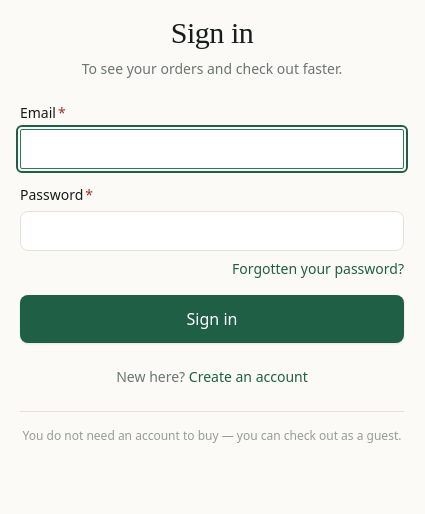
Test: signing in › shows the server’s refusal rather than guessing which field was wrong
Expected: the heading "Sign in" is shown, [171,16,253,49]
In the field labelled "Email*": coordinates (212, 149) [20,129,404,169], type "shopper@example.test"
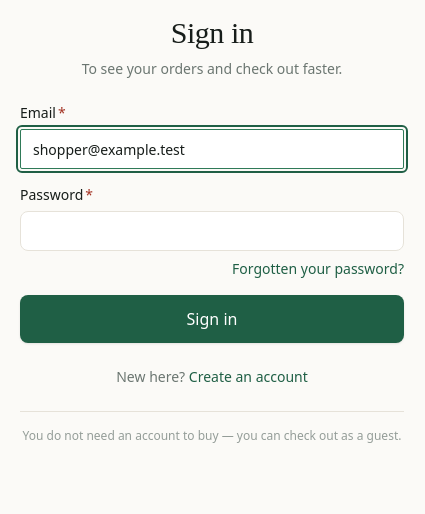
In the password field labelled "Password*": coordinates (212, 231) [20,211,404,251], type "wrong"
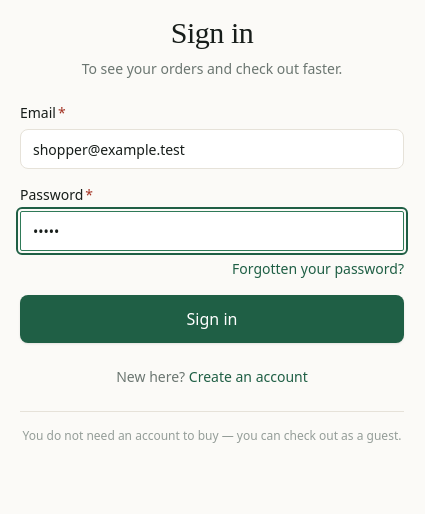
Click the button "Sign in": coordinates (212, 319) [20,295,404,343]
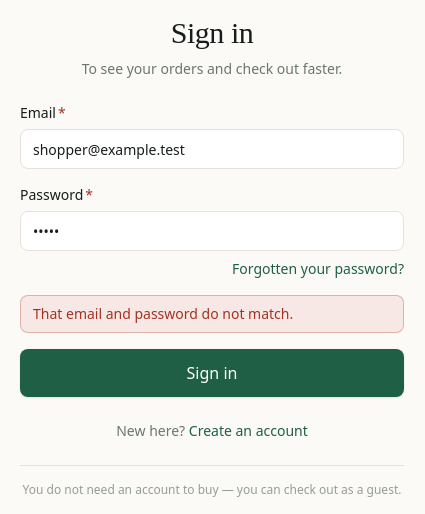
Result: the text "That email and password do not match." is shown at [20,295,404,333]
